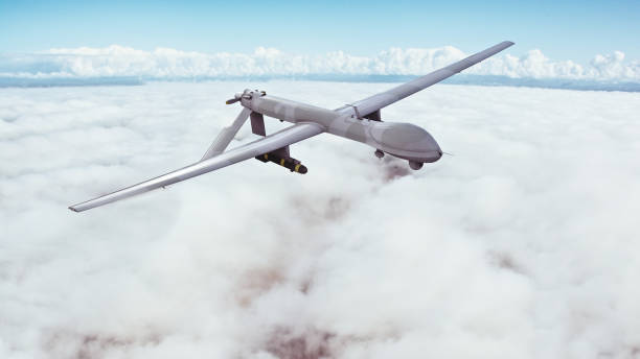military drone: (68, 39, 516, 212)
